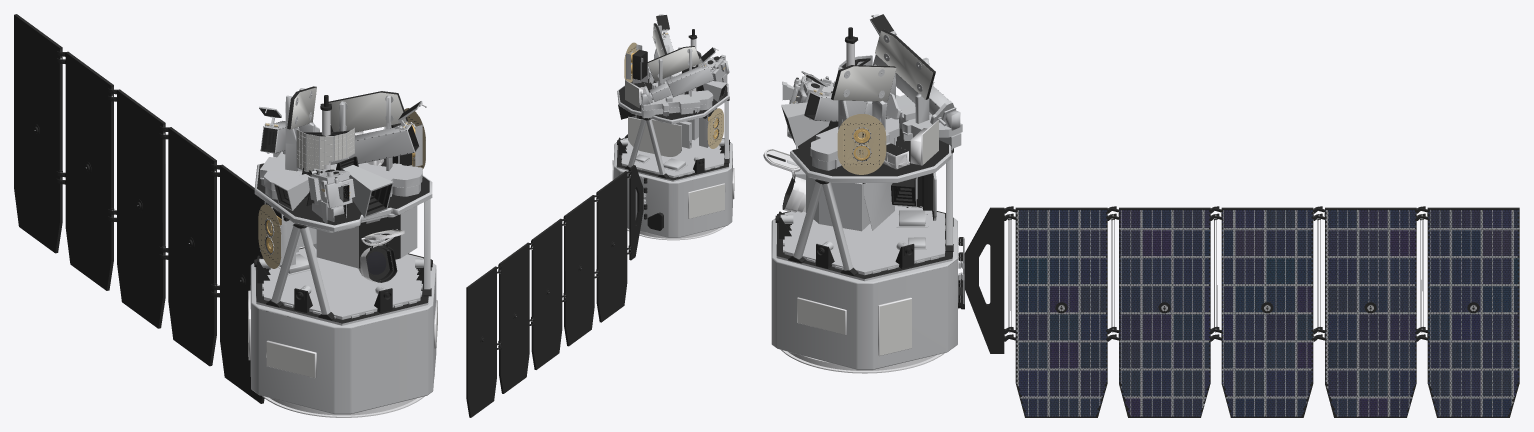
Rendered from icon.glb.
3 renders of one model, left to right at view 1: azimuth 30°, elevation 25°; view 2: azimuth 150°, elevation 25°; view 3: azimuth 270°, elevation 25°, orthographic. The views are drawn at different scales.
Parts seen in each view (by area): view 1: BUS; view 2: BUS; view 3: BUS.
Boxes of the visible parts, x1=… form: BUS: x1=14, y1=14, x2=437, y2=417; BUS: x1=466, y1=14, x2=734, y2=417; BUS: x1=763, y1=14, x2=1519, y2=417.
Bounding box in the file's own units: 1.04 × 2.1 × 3.82.
9 materials, 1 textured.
